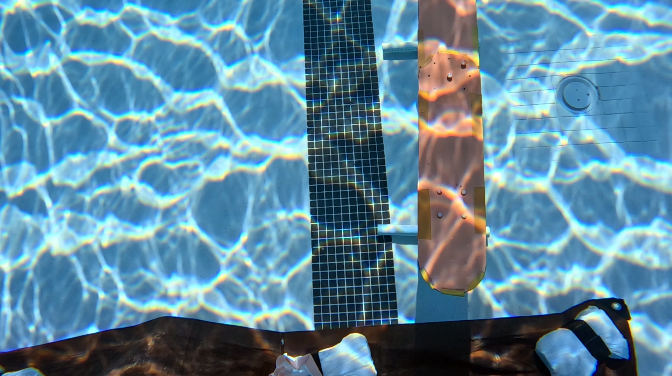pathmarker: (415, 0, 485, 295)
sandbag: (0, 295, 638, 375)
